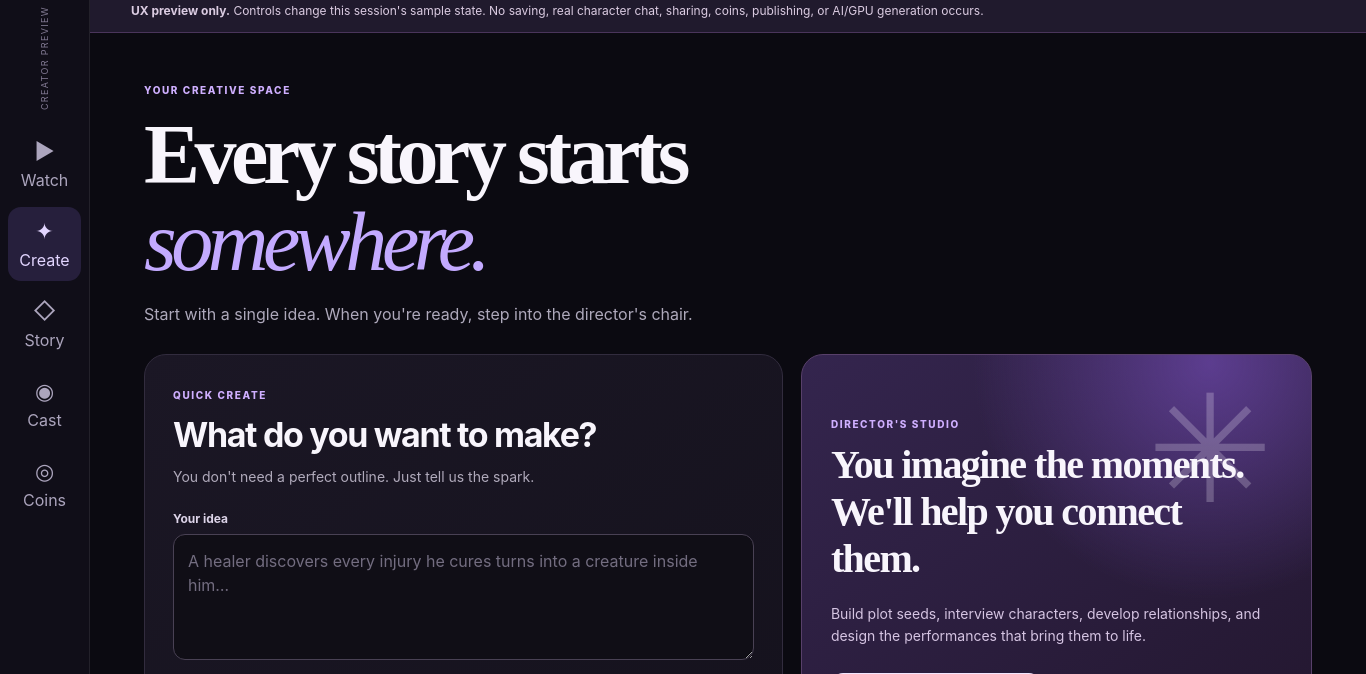
Test: creator experience preview › keeps conversation a labeled scripted simulation and character sharing private by default
Click the button "◉ Cast" at (44, 404), box [8,367,81,441]
(page scrolled)
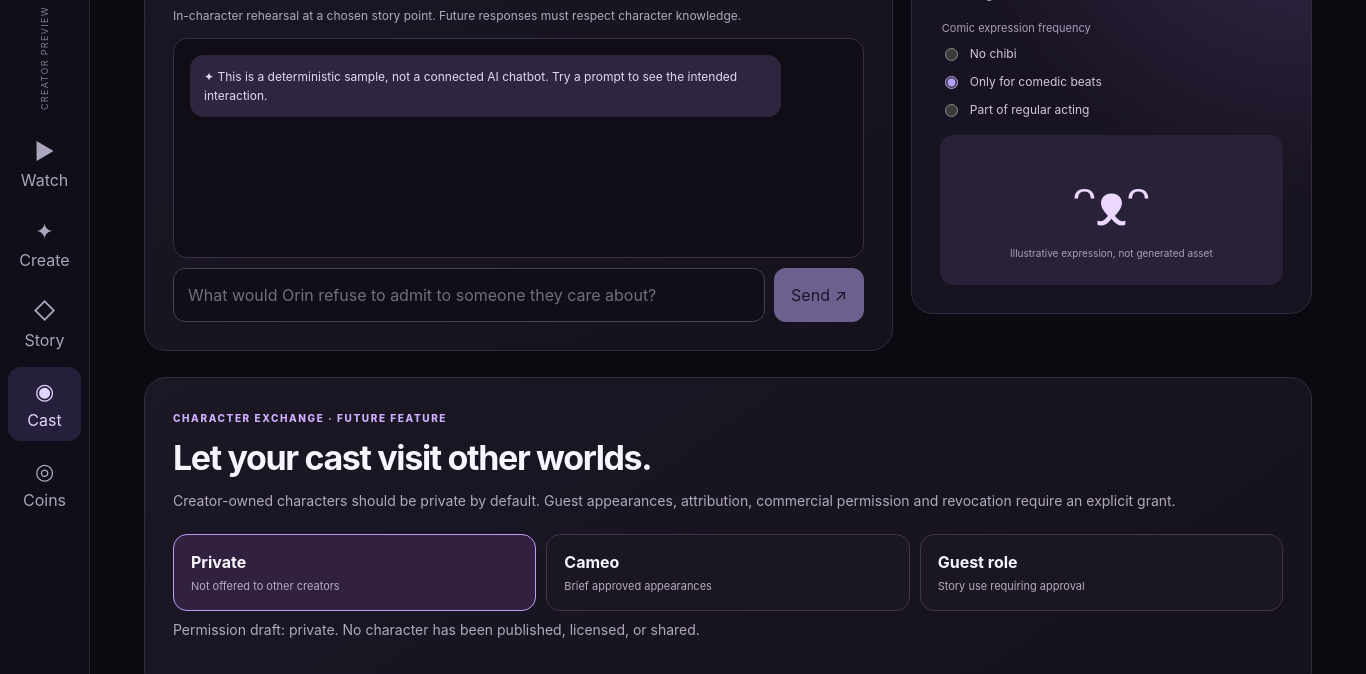
Result: the text "deterministic sample, not a connected AI chatbot" is shown at [204,69,740,103]
Type "What do you fear?" into the field named "Preview a conversation prompt" at (469, 295), box [173,268,765,322]
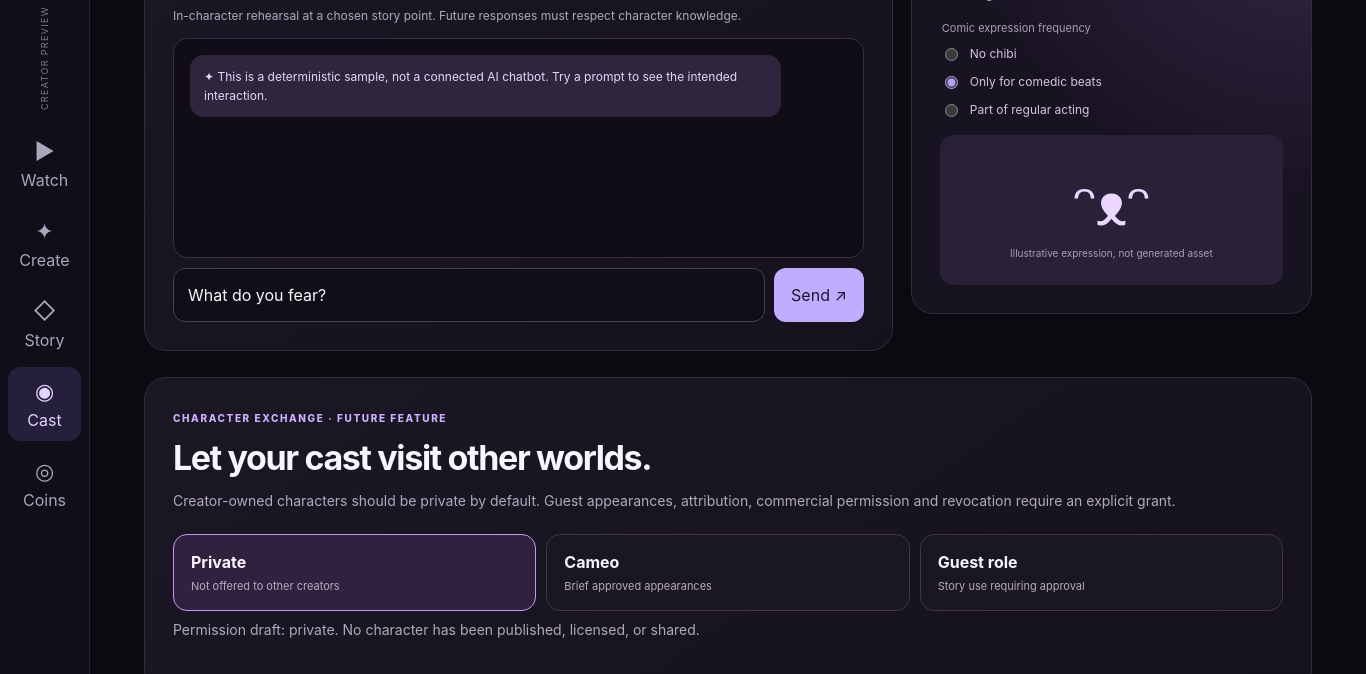
Click the button "Send ↗" at (819, 295), box [774,268,864,322]
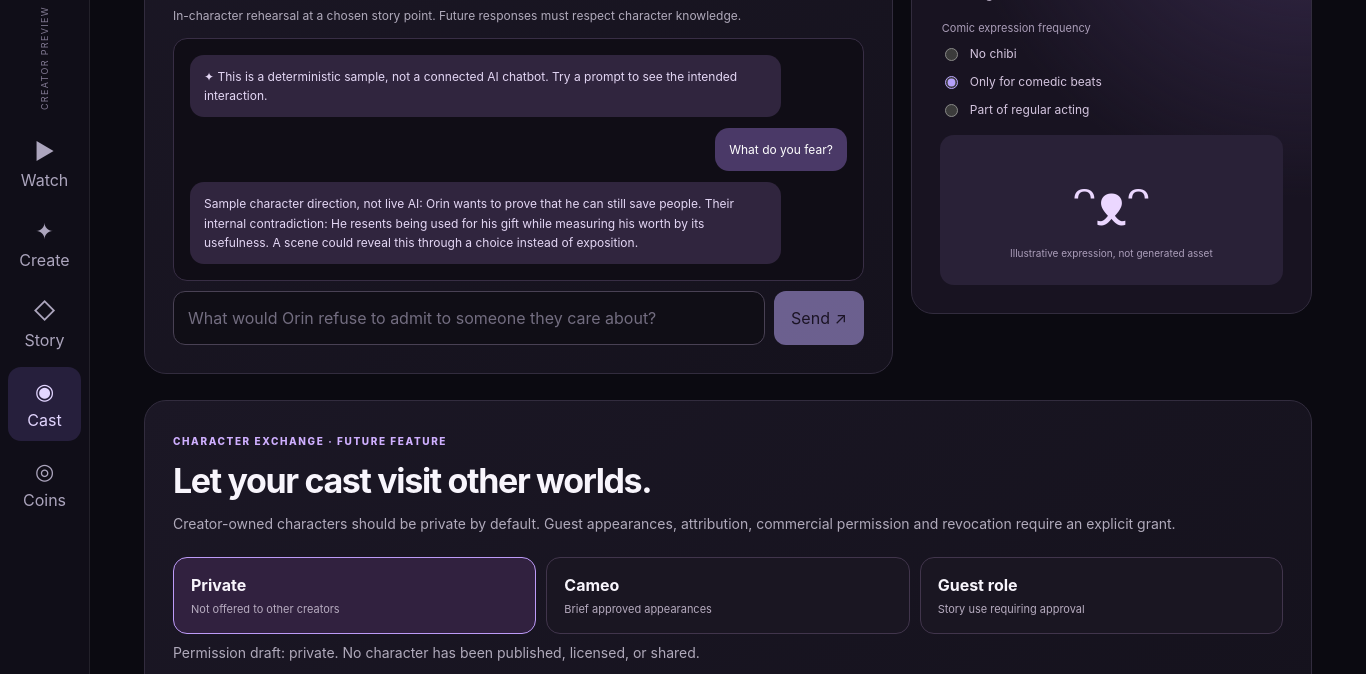
Result: the text "What do you fear?" is shown at [715,128,847,172]
Result: the text "Sample character direction, not live AI" is shown at [204,196,737,250]
